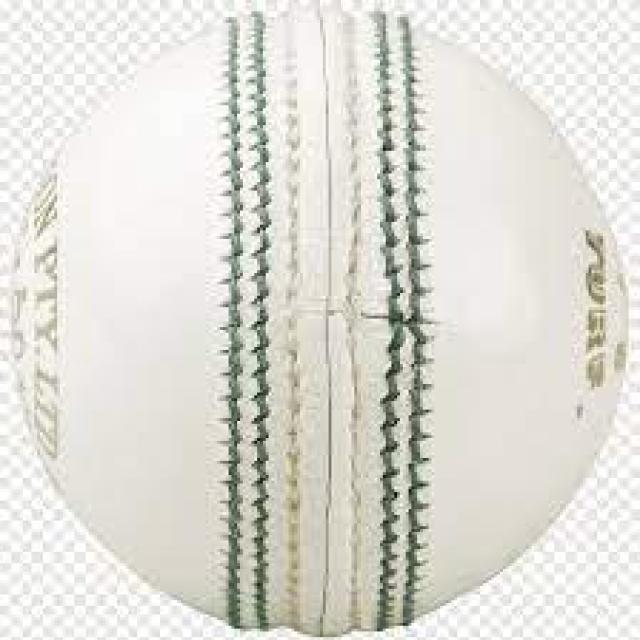ball: (11, 9, 632, 637)
